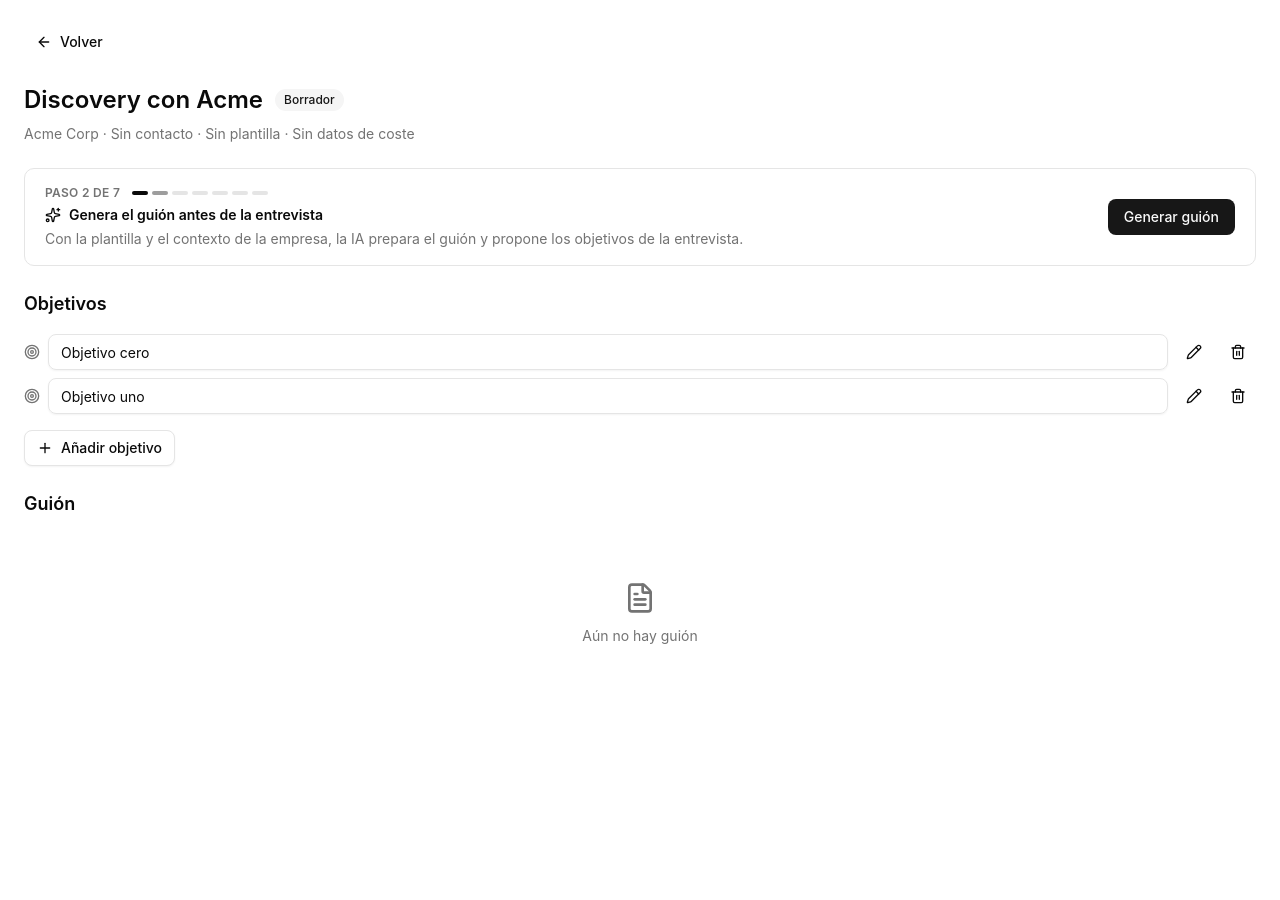
Test: ObjectivesSection (edición fusionada SPEC-042) › in-section editing › confirms the discard in an AlertDialog and restores the Inputs to the persisted objectives
The width and height of the screenshot is (1280, 900).
Type " bis" into the field named "Objetivo 1" at (608, 352), box [48, 334, 1168, 370]
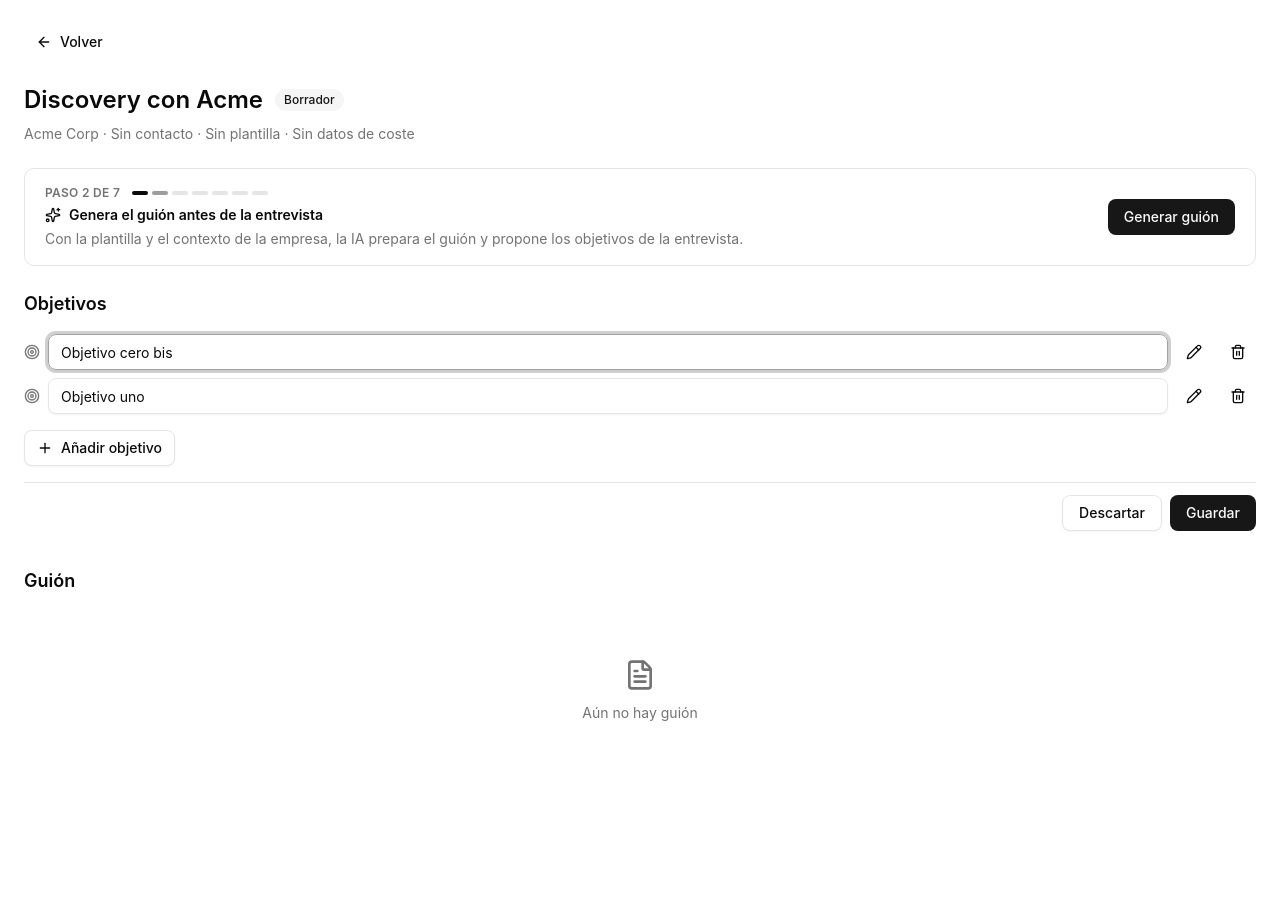
Click the button "Descartar" at (1112, 513), box [1062, 495, 1162, 531]
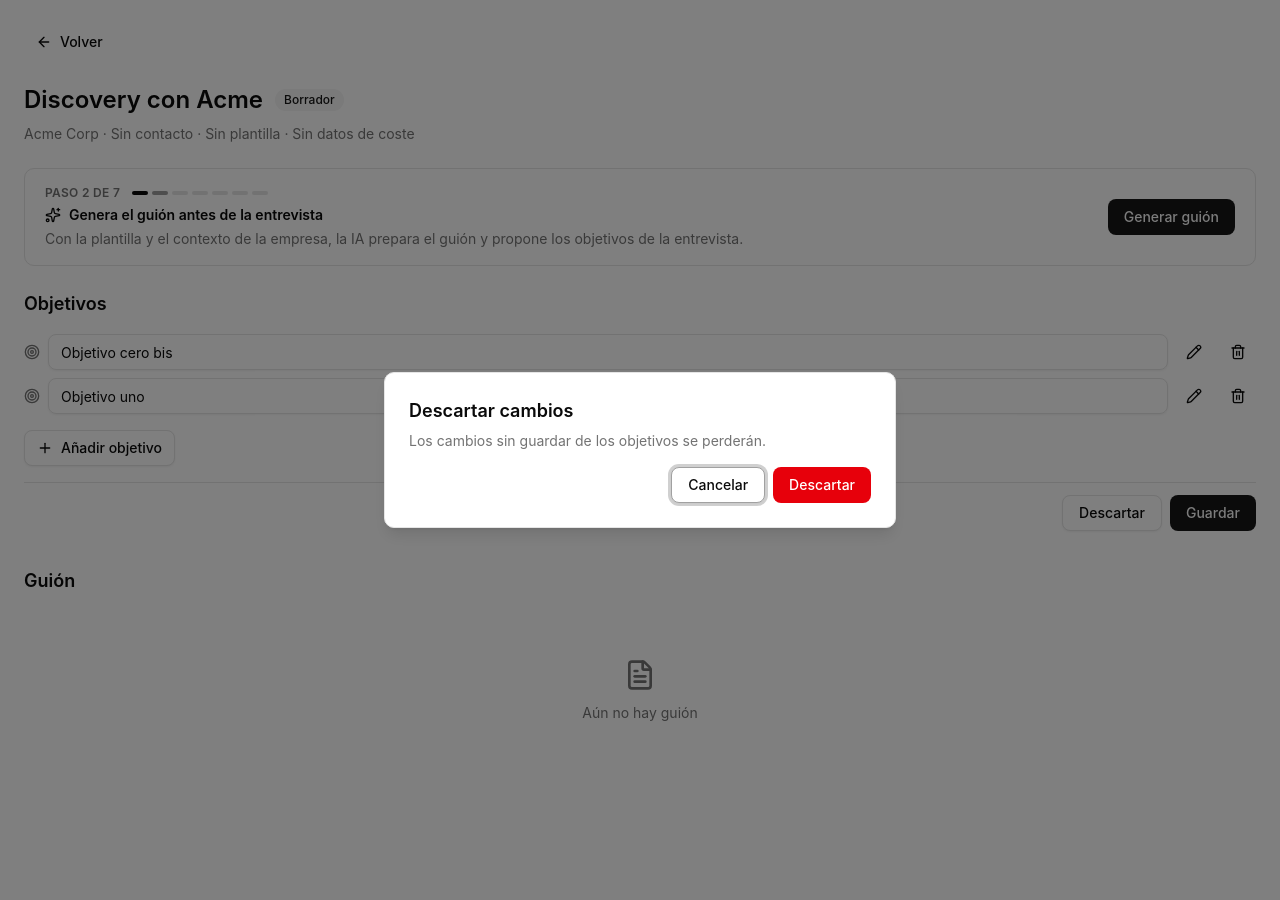
Result: the heading "Descartar cambios" is shown at [409, 397, 574, 425]
Click the button "Descartar" at (822, 485), box [773, 467, 871, 503]
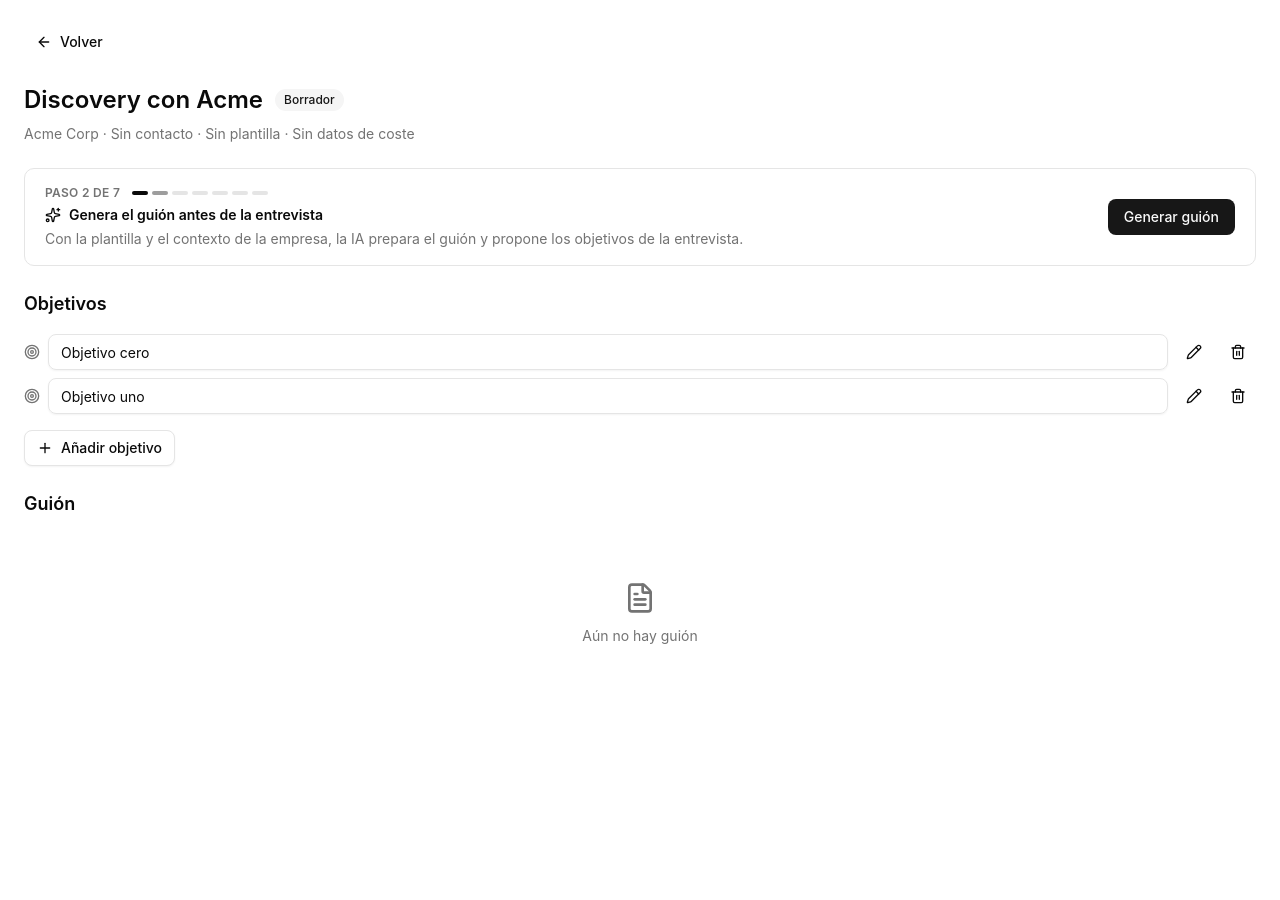
Result: the element with test id "objectives-editor-actions" is gone
